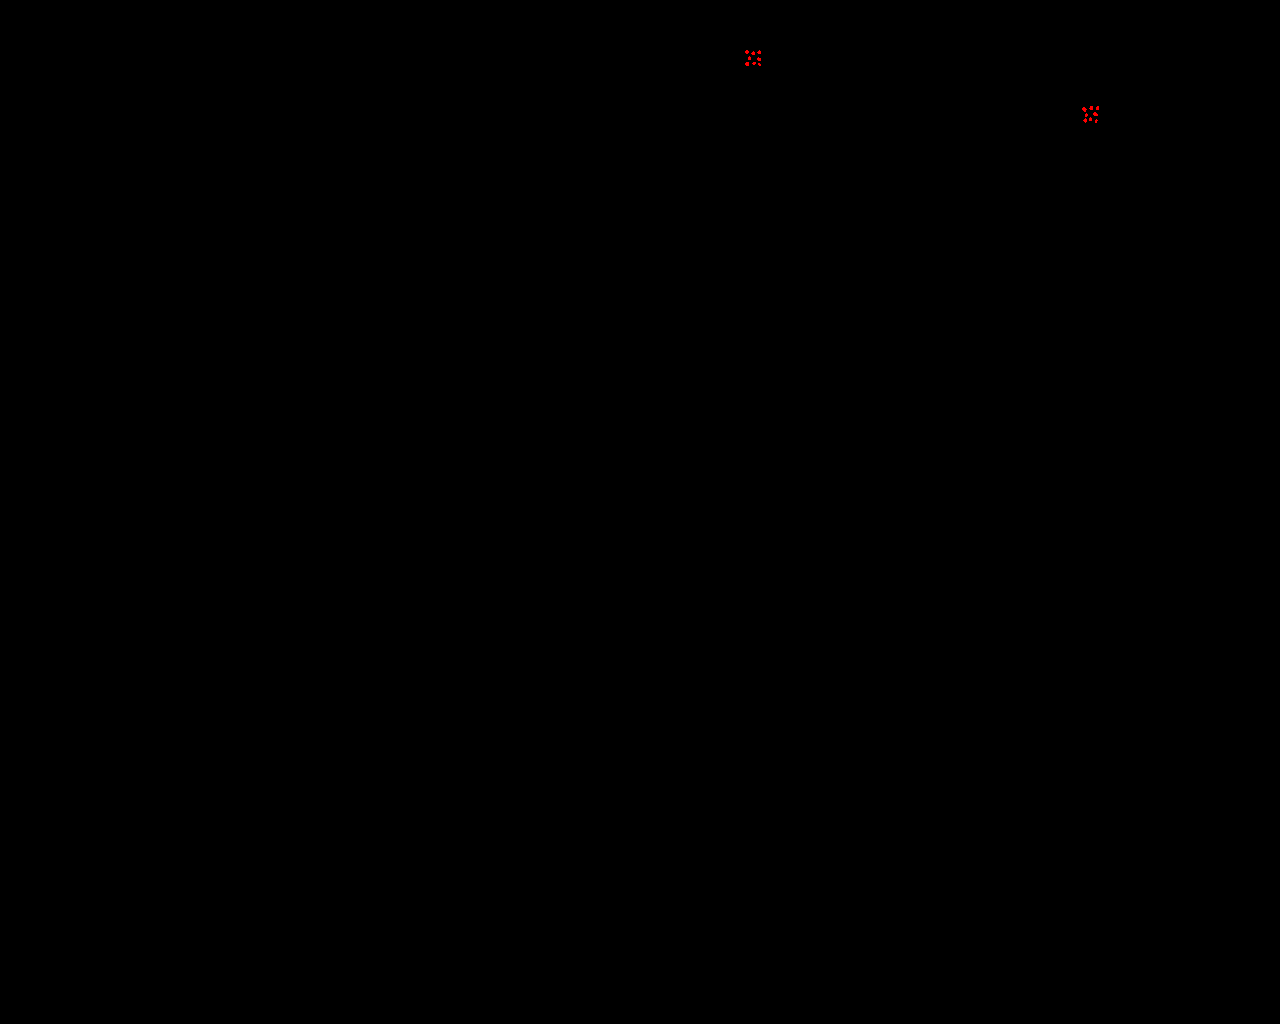Target: (1083, 107, 1087, 112), (1093, 112, 1098, 116), (1083, 118, 1087, 123), (745, 50, 749, 54), (757, 50, 761, 54), (751, 51, 755, 55), (745, 62, 749, 66), (1089, 106, 1093, 110), (757, 57, 761, 61), (752, 62, 757, 65), (1096, 106, 1099, 110), (1085, 113, 1088, 117), (1089, 117, 1092, 121), (1095, 119, 1098, 123), (748, 56, 751, 60), (758, 63, 761, 66)
